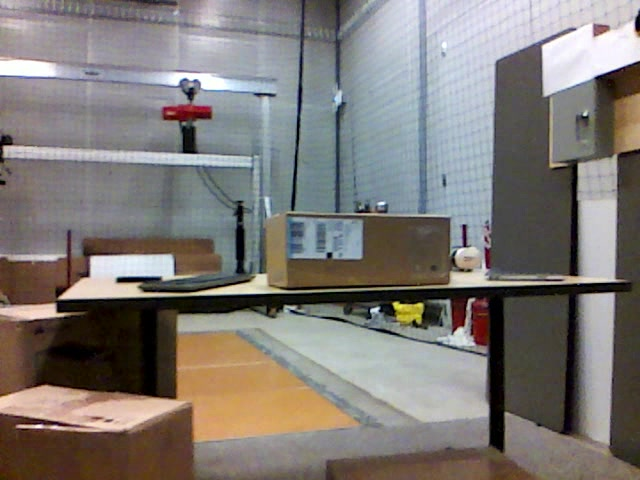box: (1, 307, 178, 480), (1, 382, 199, 480), (266, 215, 449, 284), (322, 446, 534, 480)
